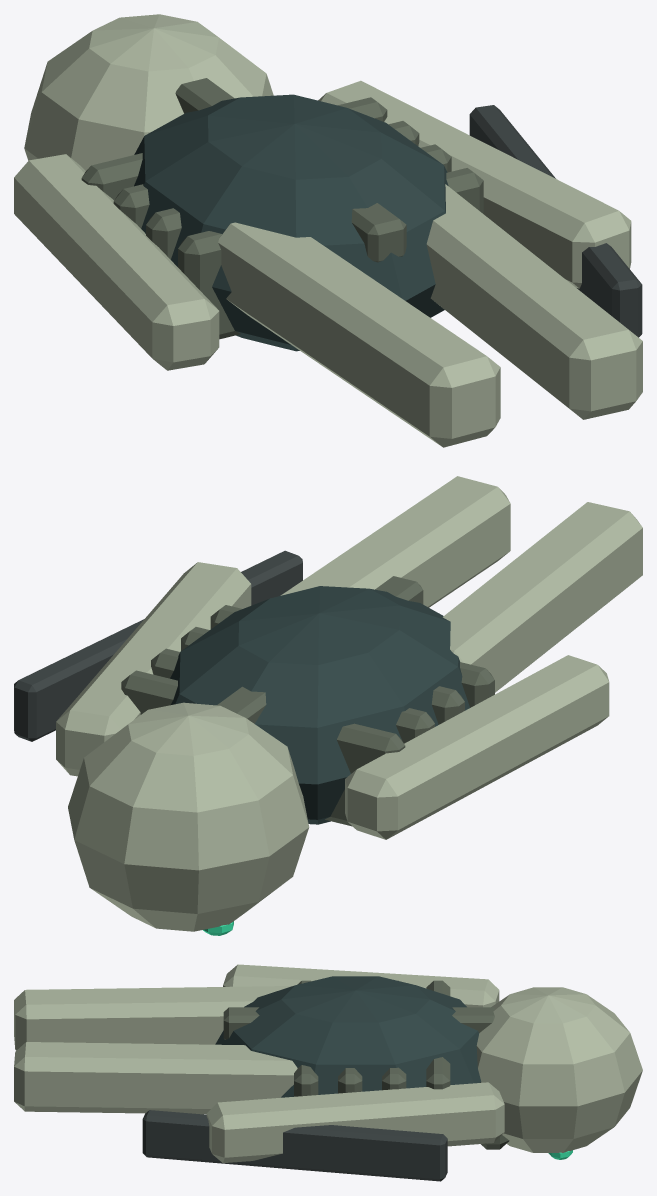
Rendered from GraveboneSkeleton.glb.
3 views of the same model, one above another, from view 1: azimuth 30°, elevation 25°; view 2: azimuth 150°, elevation 25°; view 3: azimuth 270°, elevation 25° (orthographic). The views are drawn at different scales.
Visible parts, largest first — view 1: Body, LeftLeg, RightLeg, Head, LeftArm, RightArm, Graveblade, Rib1, Spine, Rib4, Rib2, Rib3; view 2: Head, Body, LeftArm, LeftLeg, RightLeg, RightArm, Graveblade, Rib4, Spine, Rib3, Rib1, Rib2; view 3: Head, Body, RightLeg, RightArm, LeftLeg, Graveblade, LeftArm, Spine, Rib4, Rib1, Rib2, Rib3.
Boxes of the visible parts, bbox=[...] form: Body: bbox=[134, 94, 448, 351]; LeftLeg: bbox=[218, 222, 500, 447]; RightLeg: bbox=[426, 184, 642, 419]; Head: bbox=[24, 14, 273, 170]; LeftArm: bbox=[14, 154, 219, 370]; RightArm: bbox=[318, 80, 631, 288]; Graveblade: bbox=[469, 105, 642, 337]; Rib1: bbox=[178, 168, 483, 339]; Spine: bbox=[175, 78, 406, 262]; Rib4: bbox=[81, 97, 387, 200]; Rib2: bbox=[146, 144, 451, 259]; Rib3: bbox=[113, 121, 419, 228]; Head: bbox=[68, 702, 309, 931]; Body: bbox=[170, 586, 469, 824]; LeftArm: bbox=[345, 655, 609, 839]; LeftLeg: bbox=[443, 502, 642, 692]; RightLeg: bbox=[280, 476, 510, 607]; RightArm: bbox=[56, 562, 251, 776]; Graveblade: bbox=[14, 550, 302, 741]; Rib4: bbox=[121, 670, 405, 826]; Spine: bbox=[217, 576, 423, 723]; Rib3: bbox=[151, 648, 434, 743]; Rib1: bbox=[210, 605, 494, 707]; Rib2: bbox=[181, 627, 464, 724]; Head: bbox=[476, 987, 642, 1152]; Body: bbox=[215, 976, 481, 1097]; RightLeg: bbox=[14, 1042, 297, 1114]; RightArm: bbox=[206, 1082, 504, 1163]; LeftLeg: bbox=[14, 986, 292, 1050]; Graveblade: bbox=[142, 1110, 447, 1181]; LeftArm: bbox=[223, 964, 499, 1007]; Spine: bbox=[223, 1007, 494, 1039]; Rib4: bbox=[426, 980, 450, 1089]; Rib1: bbox=[294, 980, 318, 1096]; Rib2: bbox=[338, 1068, 362, 1093]; Rib3: bbox=[382, 980, 406, 1090].
Bounding box in the file's own units: 3.55 × 1.55 × 5.71.
1 material, 1 textured.
